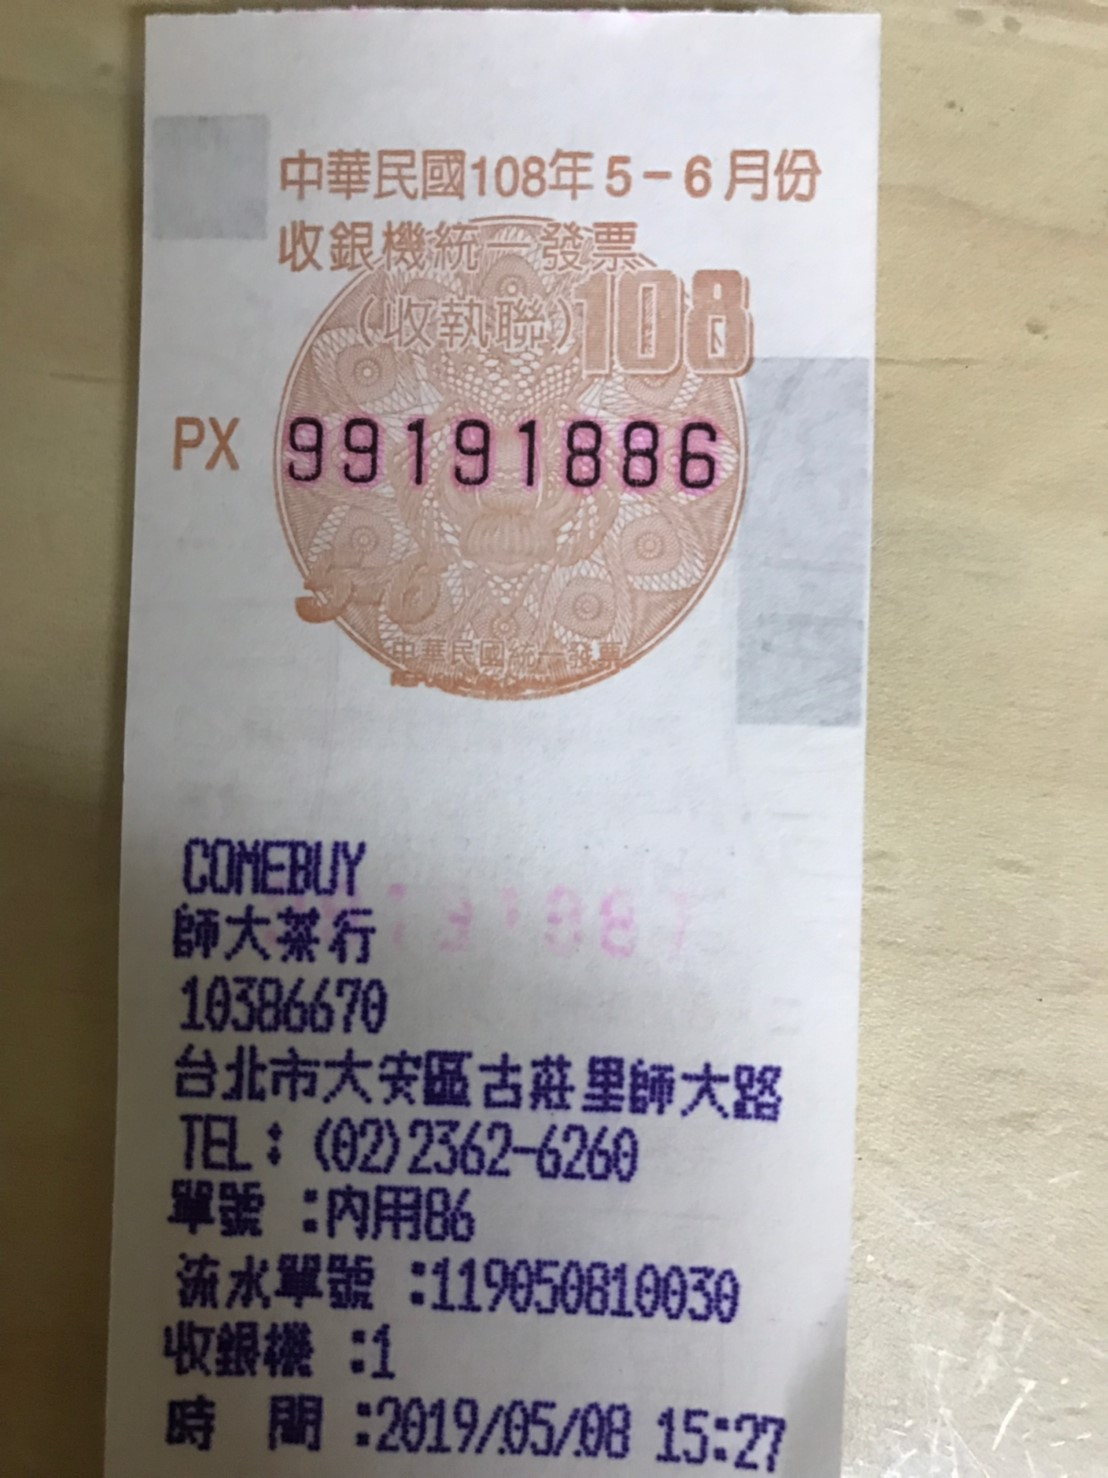Date_Old: (469, 143, 824, 208)
Number_Old: (277, 411, 724, 492)
